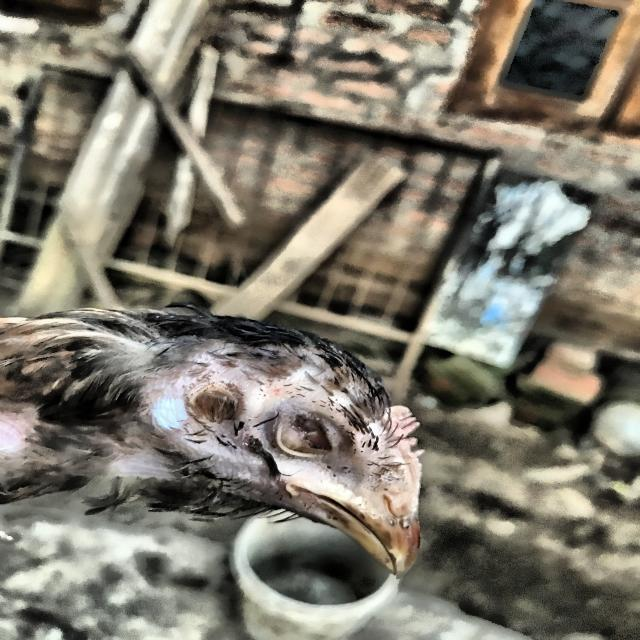Coryza: (55, 268, 450, 616)
